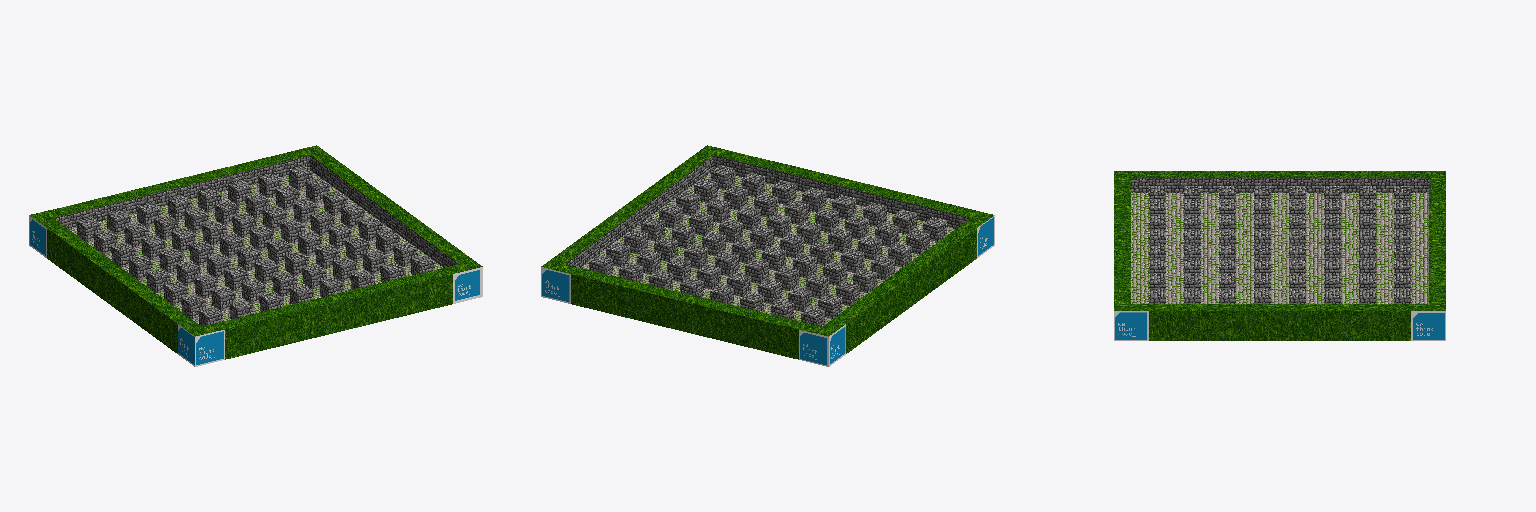
3 renders of one model, left to right at view 1: azimuth 30°, elevation 25°; view 2: azimuth 150°, elevation 25°; view 3: azimuth 270°, elevation 25°, orthographic.
Visible parts, largest first — view 1: Walls_Inside_Side, Top_Side_Wall, Wall_Tops, Side_Wall_Outside_1, Walls_Inner, Floor, Side_Wall_Outside_2, side_logo8, side_logo2, side_logo6; view 2: Walls_Inside_Side, Top_Side_Wall, Wall_Tops, Side_Wall_Outside_3, Walls_Inner, Floor, Side_Wall_Outside_2, side_logo5, side_logo4, side_logo7; view 3: Floor, Top_Side_Wall, Wall_Tops, Walls_Inside_Side, Side_Wall_Outside_4, Walls_Inner, side_logo1, side_logo3.
Boxes of the visible parts, x1,y1,x2,y2 form: Walls_Inside_Side: [77, 170, 434, 326]; Top_Side_Wall: [30, 145, 482, 336]; Wall_Tops: [78, 166, 434, 316]; Side_Wall_Outside_1: [225, 274, 452, 359]; Walls_Inner: [54, 155, 457, 267]; Floor: [69, 173, 442, 323]; Side_Wall_Outside_2: [47, 229, 177, 353]; side_logo8: [195, 330, 224, 366]; side_logo2: [453, 267, 482, 303]; side_logo6: [29, 215, 46, 257]; Walls_Inside_Side: [589, 170, 946, 326]; Top_Side_Wall: [541, 145, 993, 336]; Wall_Tops: [589, 166, 945, 316]; Side_Wall_Outside_3: [571, 274, 798, 359]; Walls_Inner: [566, 155, 969, 267]; Floor: [581, 173, 954, 323]; Side_Wall_Outside_2: [846, 229, 976, 353]; side_logo5: [799, 330, 828, 366]; side_logo4: [541, 267, 570, 303]; side_logo7: [977, 215, 994, 257]; Floor: [1131, 193, 1428, 303]; Top_Side_Wall: [1114, 171, 1445, 310]; Wall_Tops: [1149, 186, 1410, 296]; Walls_Inside_Side: [1149, 193, 1410, 303]; Side_Wall_Outside_4: [1149, 311, 1410, 340]; Walls_Inner: [1131, 178, 1428, 192]; side_logo1: [1114, 311, 1148, 340]; side_logo3: [1411, 311, 1445, 340].
Size of the model in its own units: 2000 by 202 by 2000.
Materials: 4 (4 with a texture image).